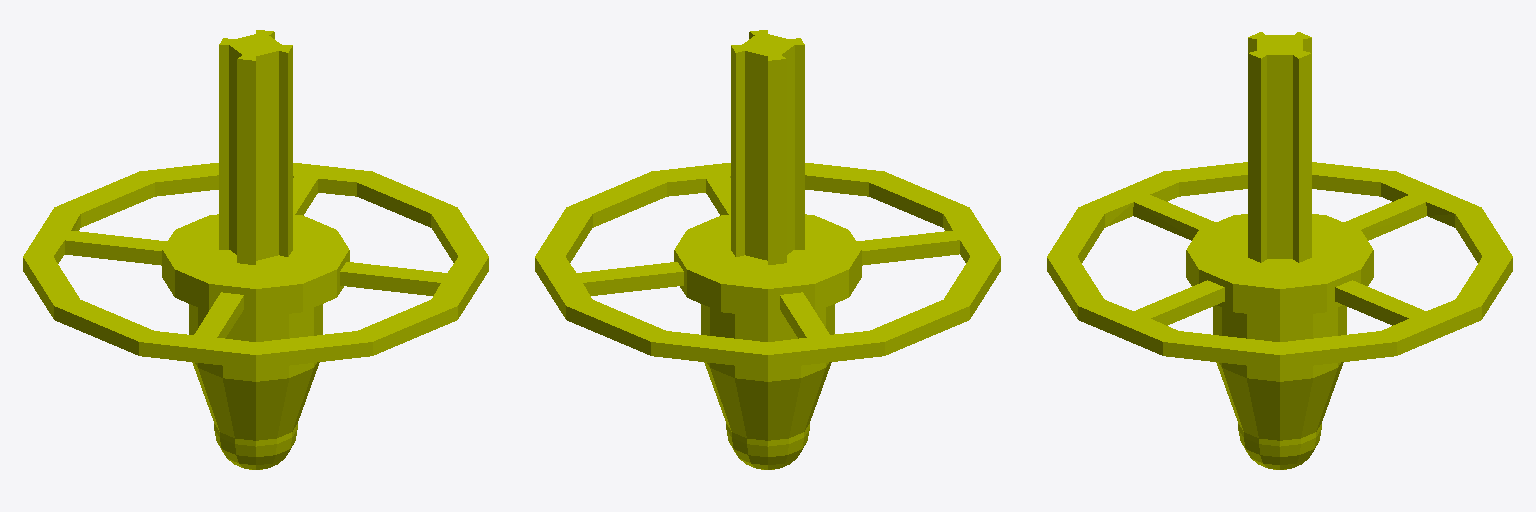
The model's file is 5Bit.obj.
3 renders of one model, left to right at view 1: azimuth 30°, elevation 25°; view 2: azimuth 150°, elevation 25°; view 3: azimuth 270°, elevation 25°, orthographic.
Visible parts, largest first — view 1: 5Bit; view 2: 5Bit; view 3: 5Bit.
Boxes of the visible parts, <box> form: 5Bit: <box>23,30,488,469</box>; 5Bit: <box>535,30,1000,469</box>; 5Bit: <box>1047,32,1512,469</box>.
Size of the model in its own units: 2.23 by 2.23 by 2.23.